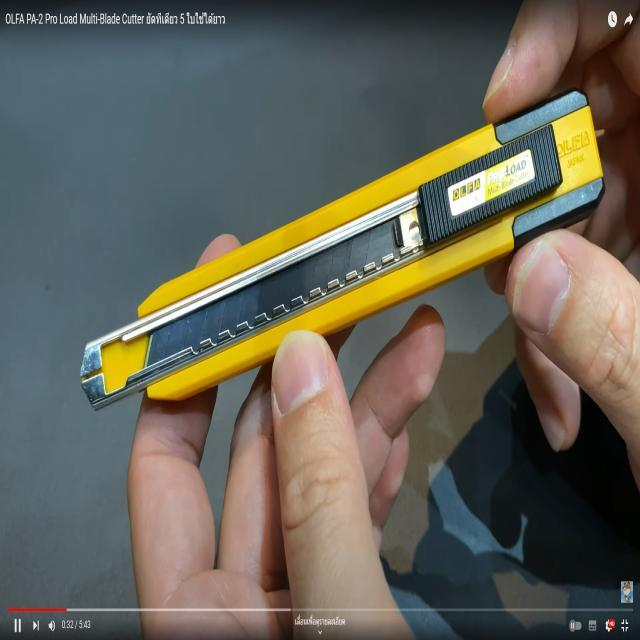cutter: (34, 0, 640, 640)
